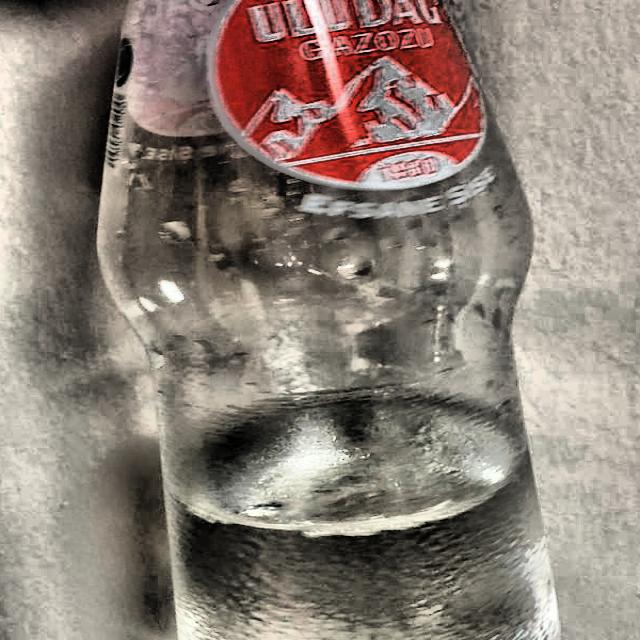plastic: (91, 0, 566, 640)
